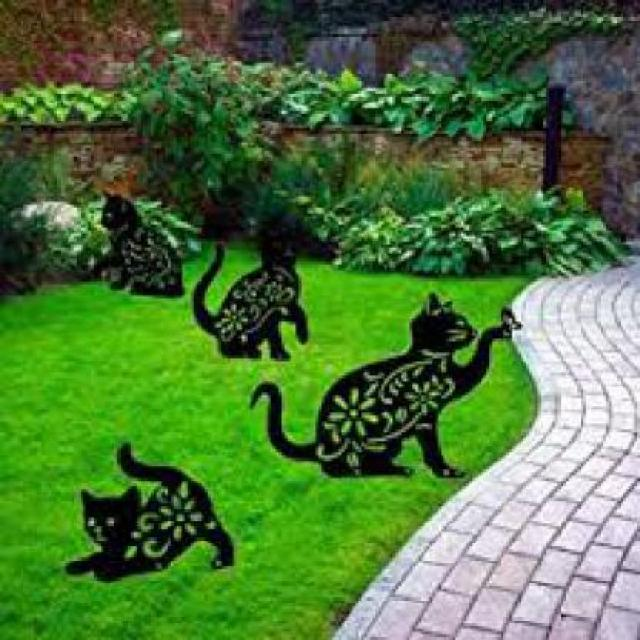animals: (233, 288, 521, 483), (57, 436, 254, 590), (196, 204, 324, 376), (80, 188, 191, 304)
